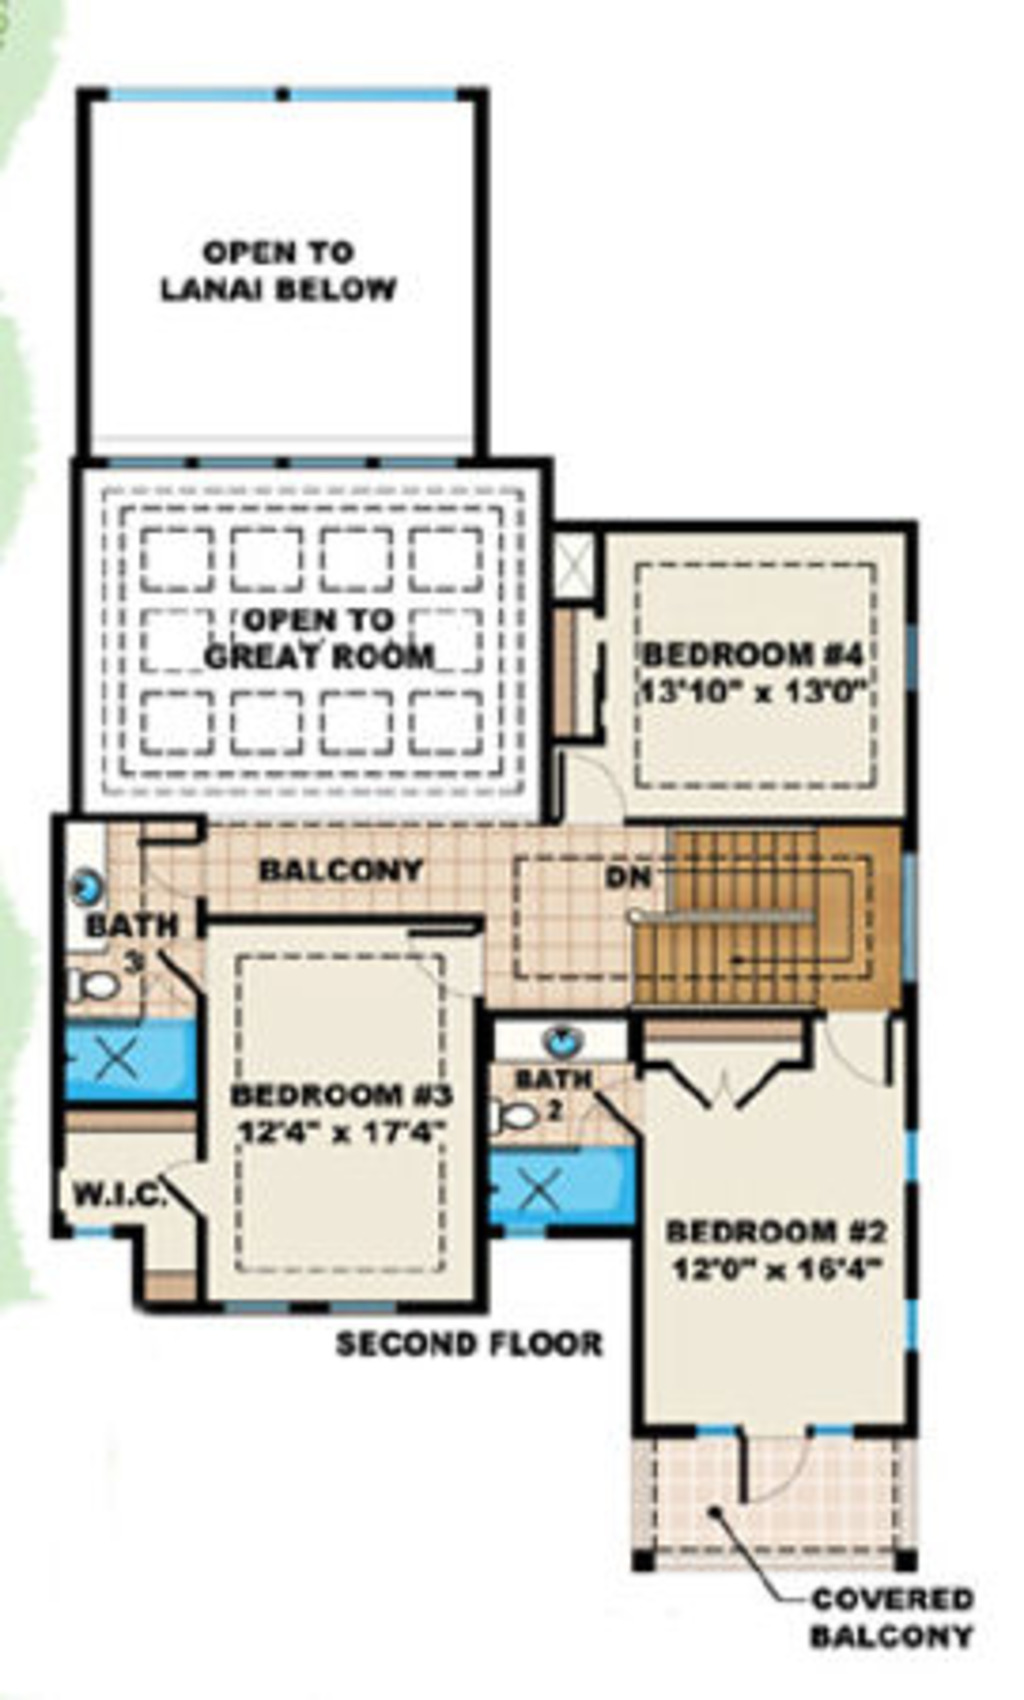door: (398, 928, 490, 1004), (734, 1419, 811, 1506), (667, 1056, 779, 1115), (547, 748, 632, 823), (827, 1011, 910, 1088), (149, 1158, 207, 1228), (163, 939, 210, 1011)
large_sink: (466, 1092, 534, 1147), (58, 959, 121, 1018)
small_sink: (53, 821, 111, 937), (487, 1019, 623, 1061)
stairs: (627, 818, 905, 1022)
windows: (210, 1290, 403, 1321)
